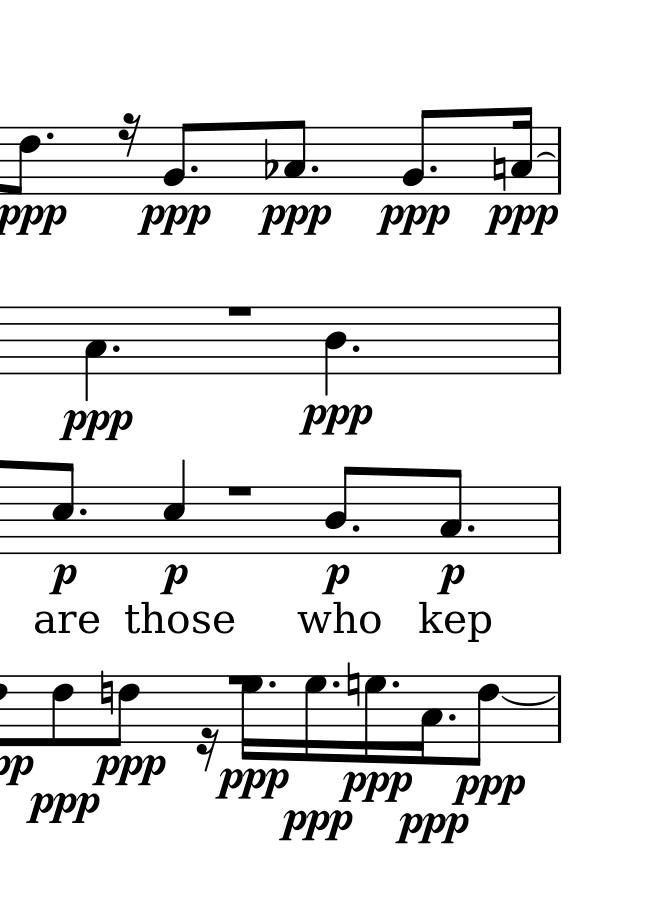16_3: (408, 673, 447, 767), (510, 100, 534, 196)
16_7: (362, 671, 394, 766), (301, 672, 327, 764)
4_3: (84, 303, 109, 402)
4_4: (322, 303, 350, 401)
4_5: (162, 458, 188, 559)
8_2: (401, 104, 434, 195), (164, 120, 197, 196)
8_3: (438, 465, 465, 556), (284, 115, 307, 196)
8_4: (323, 461, 360, 556)
8_5: (52, 458, 78, 555)
8_6: (461, 673, 501, 770), (6, 125, 42, 197), (111, 672, 142, 750), (49, 673, 76, 748)
Flat: (261, 136, 278, 181)
Natural: (489, 144, 509, 195), (343, 660, 364, 708), (98, 668, 114, 714)
Rests1: (225, 482, 260, 501), (225, 302, 251, 319)
Rests16: (117, 111, 145, 159), (195, 726, 220, 769)
Single_barline: (548, 487, 572, 555), (549, 307, 568, 374), (550, 675, 568, 743), (551, 128, 567, 195)
Slur: (500, 695, 557, 705)
dot: (43, 128, 56, 145), (109, 342, 122, 356), (427, 162, 439, 176), (309, 161, 320, 176), (350, 521, 361, 536), (350, 342, 362, 355), (188, 163, 199, 176), (465, 522, 476, 535), (77, 505, 88, 518), (266, 679, 277, 691), (390, 678, 400, 691), (330, 678, 341, 689), (448, 712, 457, 723)
p: (435, 559, 468, 597), (318, 561, 354, 594), (158, 559, 187, 598), (48, 562, 78, 597)
ppp: (394, 809, 471, 853), (257, 201, 334, 242), (376, 200, 451, 242), (278, 804, 357, 843), (452, 769, 527, 810), (26, 787, 99, 828), (481, 201, 559, 239), (340, 765, 411, 806), (214, 765, 290, 803), (134, 202, 212, 239), (294, 399, 368, 438), (90, 752, 168, 788), (55, 406, 132, 442), (1, 203, 68, 240)
